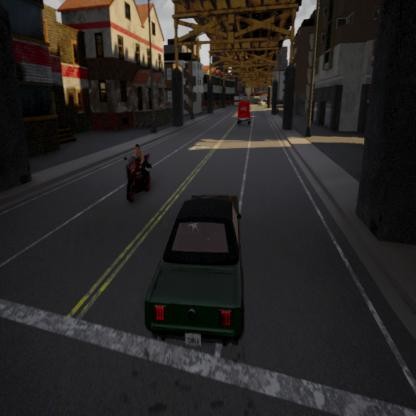Cars: (146, 184, 252, 365), (234, 94, 252, 129)
